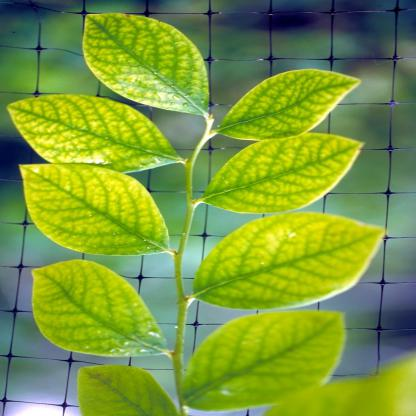Blueberry leaf: (189, 211, 400, 311), (182, 308, 351, 413), (15, 161, 176, 257), (26, 258, 171, 361), (197, 133, 376, 216), (79, 9, 214, 117), (214, 68, 377, 135), (70, 364, 179, 416)
